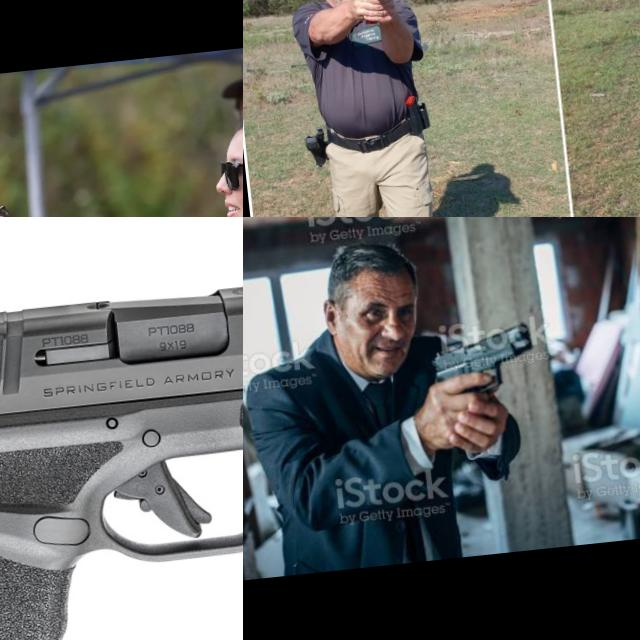handgun: (0, 241, 243, 640), (426, 318, 542, 402), (0, 183, 74, 217), (545, 0, 618, 25), (358, 0, 393, 19)
